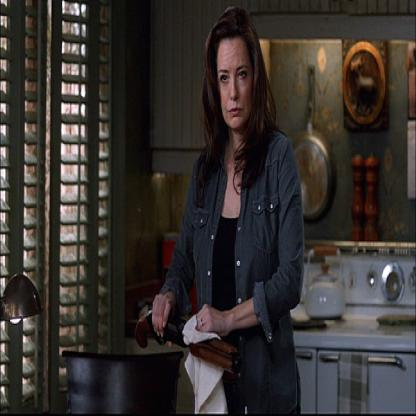Gun: (132, 299, 244, 375)
